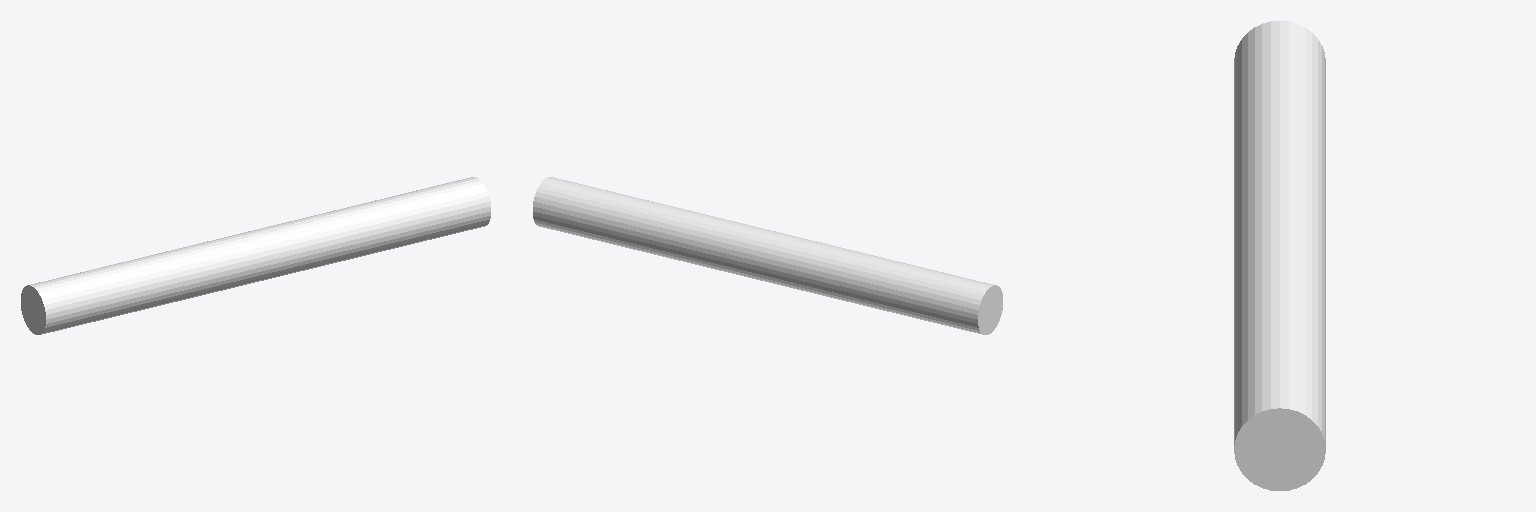
URDF robot description (valve):
<?xml version="1.0"?>
<robot name="valve">

  <link name="world"/>
  <joint name="root" type="fixed">
    <parent link="world"/>
    <child link="rod"/>
  </joint>
  
  <link name="rod">
    <visual>
      <geometry>
	  <cylinder length="0.1" radius="0.005"/>
      </geometry>
      <origin rpy="0 1.57075 0" xyz="-0.05 0 0"/>
      <material name="whiteish">
	  <color rgba="1.0 1.0 1.0 1.0"/>
      </material>
    </visual>
    <collision>
      <geometry>
	<cylinder length="0.1" radius="0.005"/>
      </geometry>
      <origin rpy="0 1.57075 0" xyz="-0.05 0 0"/>
    </collision>
    <inertial>
      <origin xyz="0 0 0"/>
      <mass value="0.1"/>
      <inertia ixx="1.0" ixy="0.0" ixz="0.0" iyy="1.0" iyz="0.0" izz="1.0"/>
    </inertial>
  </link>

  <joint name="rod_to_handle" type="continuous">
    <parent link="rod"/>
    <child link="handle"/>
    <axis xyz="1 0 0"/>
    <origin xyz="0 0 0"/>
  </joint>

  <link name="handle">
    <visual>
      <geometry>
	  <mesh filename="driving-wheel-dae/logitech_driving_force_pro_wheel_smallbigger5_wpi.dae" scale="1 1 1"/>
      </geometry>
      <origin rpy="0 0 0" xyz="0 0 0"/>
    </visual>
    <collision>
      <geometry>
        <mesh filename="driving-wheel-dae//logitech_driving_force_pro_wheel_smallbigger5_wpi.dae" scale="1 1 1"/>
      </geometry>
      <origin rpy="0 0 0" xyz="0 0 0"/>
    </collision>
    <inertial>
      <origin xyz="0 0 0" />
      <mass value="0.1"/>
      <inertia ixx="1.0" ixy="0.0" ixz="0.0" iyy="1.0" iyz="0.0" izz="1.0"/>
    </inertial>
  </link>

</robot>

--- Facts derived from the render (not from the file) ---
Views: 3 orthographic renders of the robot side by side, from view 1: azimuth 30°, elevation 25°; view 2: azimuth 150°, elevation 25°; view 3: azimuth 270°, elevation 25°.
Robot: valve — 3 links, 2 joints (1 continuous, 1 fixed); root link world; default pose: every joint at zero.
Visible links, largest first — view 1: rod; view 2: rod; view 3: rod.
Boxes of the visible links, x1=… form: rod: x1=21, y1=177, x2=490, y2=334; rod: x1=533, y1=177, x2=1002, y2=334; rod: x1=1234, y1=21, x2=1325, y2=490.
Bounding box of the posed robot: 0.1 × 0.01 × 0.01 m (x, y, z).
Meshes: 1 distinct files referenced, 0 mesh visuals loaded (none loaded); not drawn: 1 (reference not matched to a file when rendering).